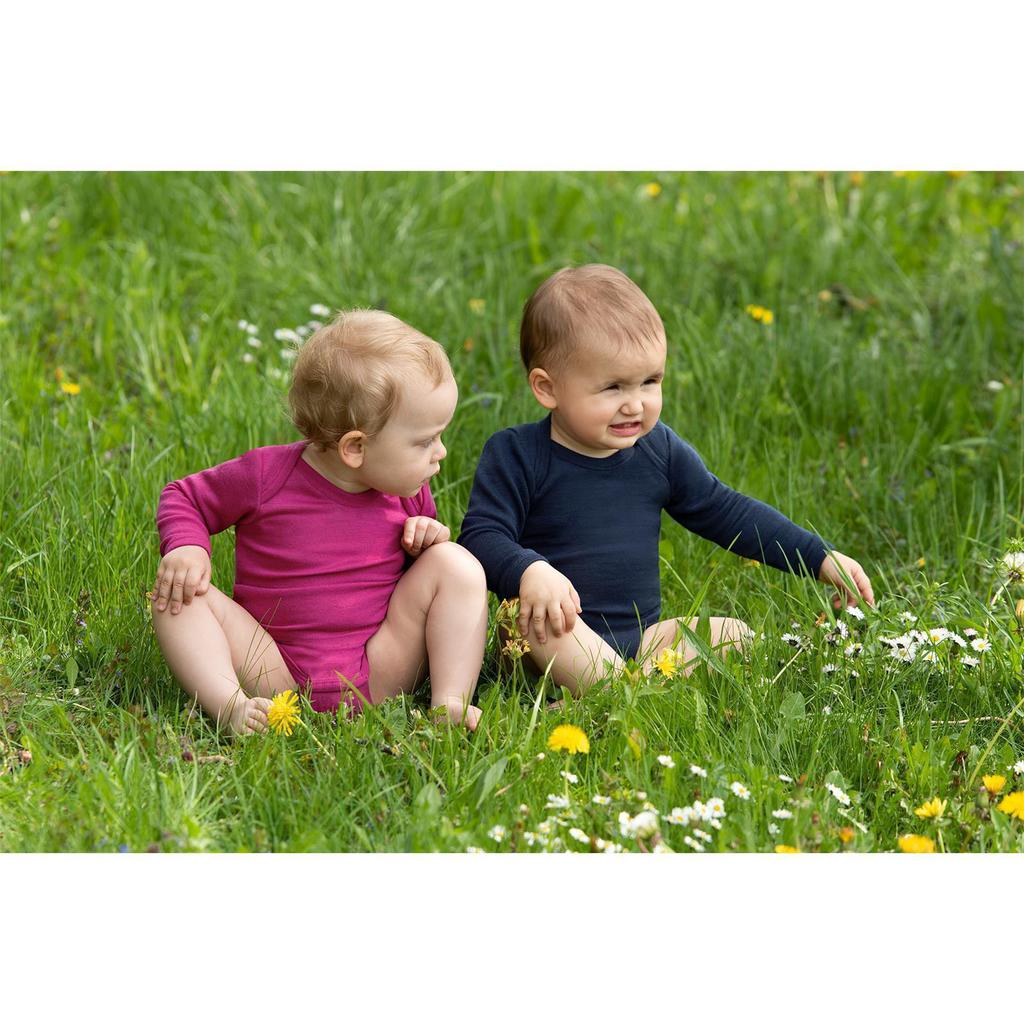child: (467, 266, 878, 694), (122, 296, 508, 751)
